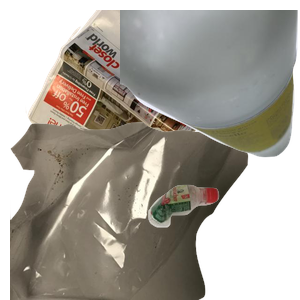glass: (120, 10, 300, 160)
paper: (23, 10, 245, 190)
plastic: (146, 182, 300, 300)
trash: (10, 120, 250, 300)
